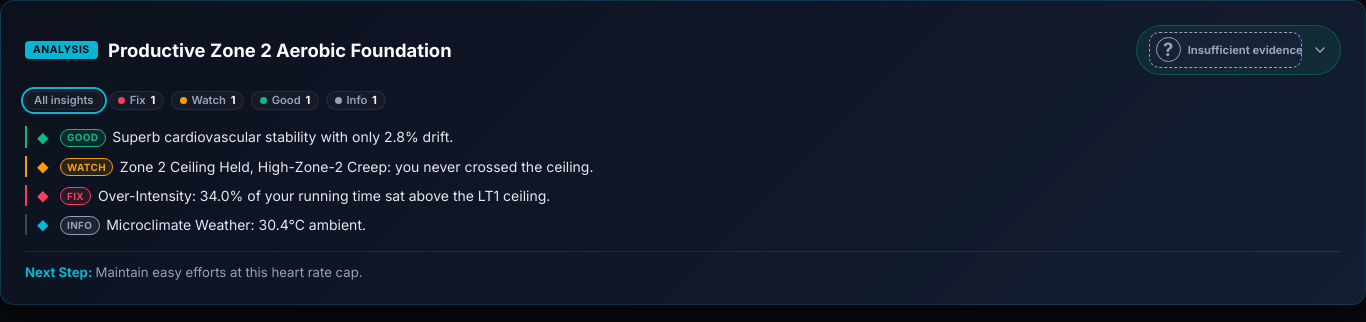
Test: CoachScoreCard weighted rubric UI › colour-codes each read-out and summarises the mix by tone
Expected: the element named "Insight mix" is shown, [25,91,386,110]
Click the button named "Fix1": (137, 100) [109,91,164,110]
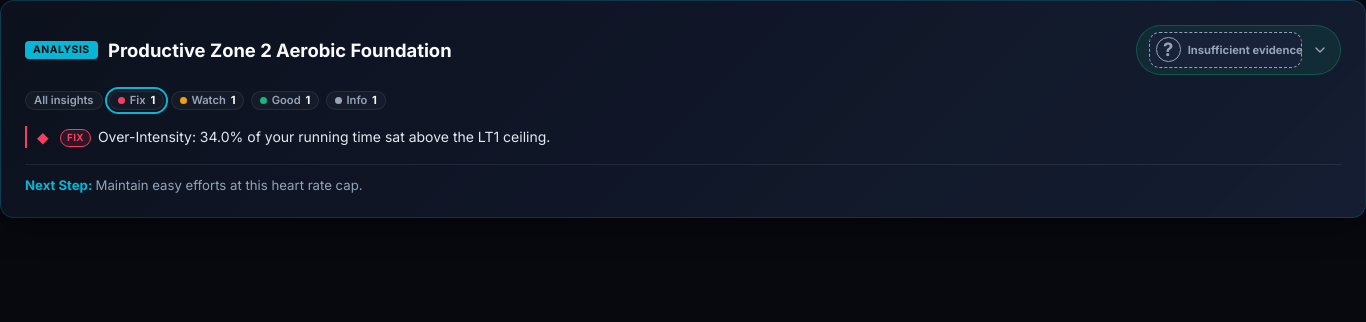
Result: the number of list items with class "coach-insight-item" is 1 at [25,126,1341,148]
Click the button "All insights": (64, 100) [25,91,102,110]
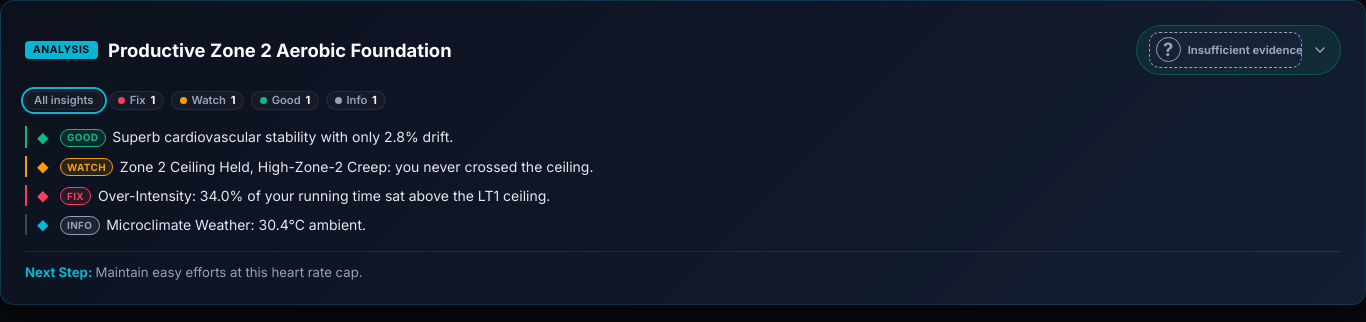
Result: the number of list items with class "coach-insight-item" is 4 at [25,126,1341,148]; [25,156,1341,177]; [25,185,1341,206]; [25,214,1341,235]
